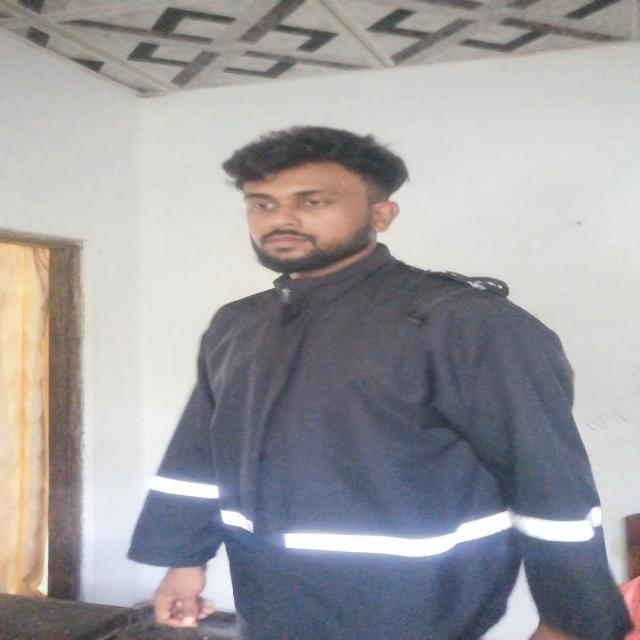Jacket_Wearer: (152, 250, 612, 640)
